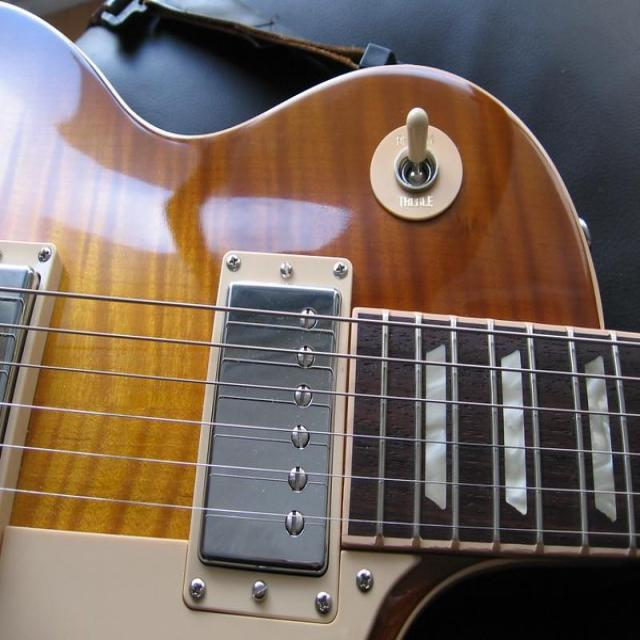guitar: (0, 8, 601, 636)
